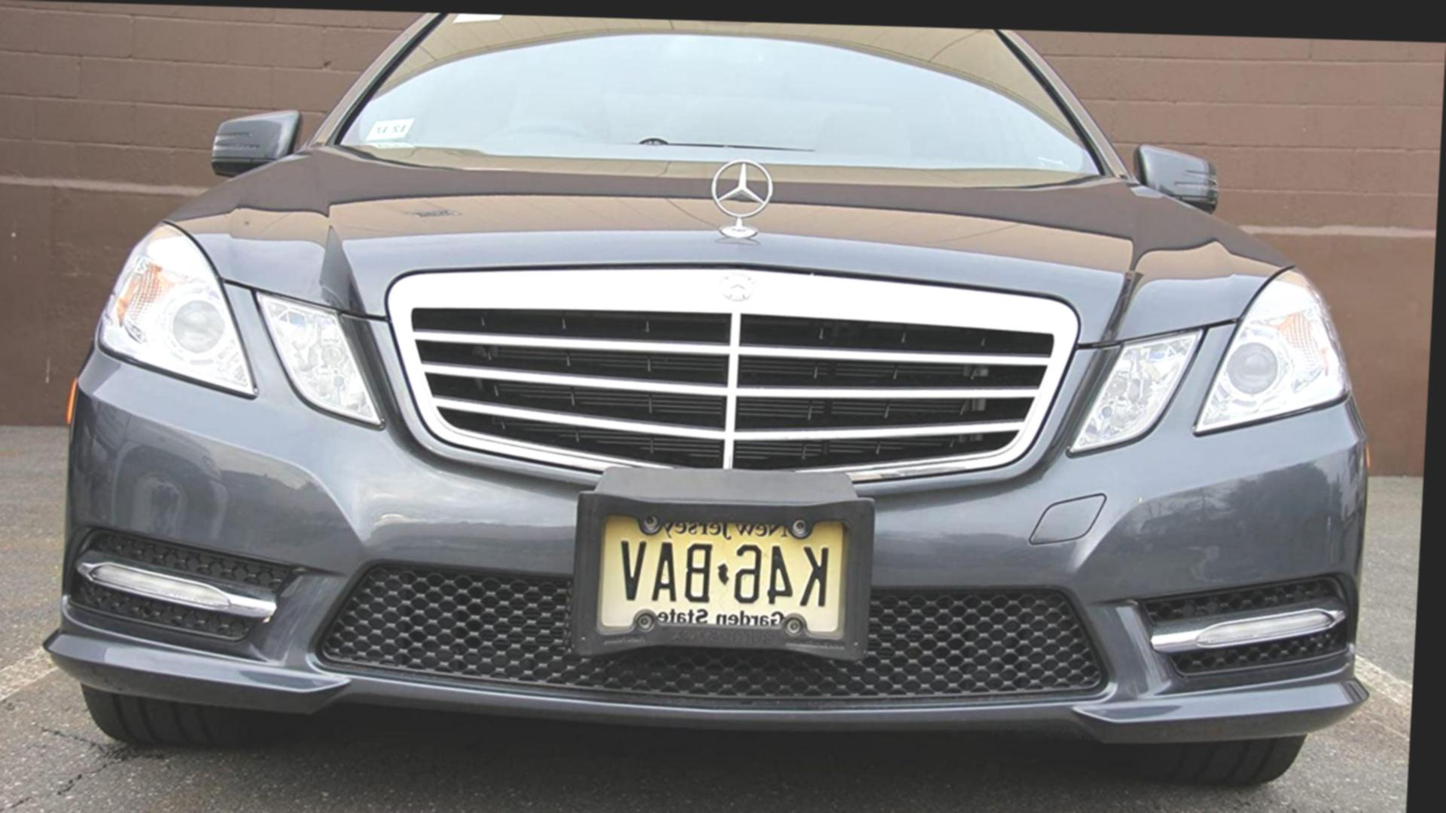License_Plate: (587, 484, 876, 645)
